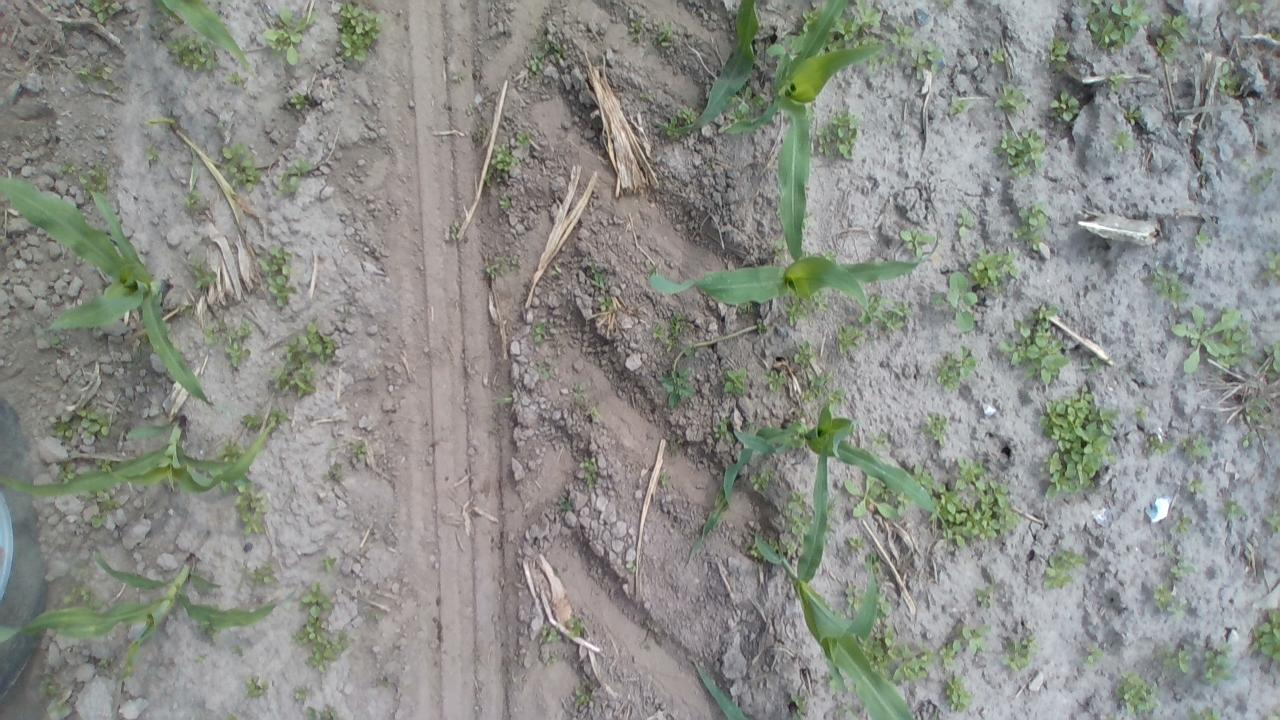Maize: (0, 176, 213, 408), (755, 439, 920, 720), (720, 1, 884, 264), (686, 404, 938, 568), (1, 553, 282, 676), (0, 415, 277, 500), (644, 255, 922, 319), (662, 0, 759, 133), (153, 1, 250, 68), (148, 115, 220, 194), (689, 659, 747, 720)
Weeds: (656, 321, 766, 406), (1042, 384, 1121, 498), (997, 304, 1068, 386), (934, 481, 1016, 542), (1172, 309, 1236, 374), (277, 322, 333, 396), (1081, 1, 1147, 50), (996, 124, 1048, 176), (266, 10, 314, 66), (934, 271, 978, 332), (934, 621, 990, 668), (339, 3, 382, 62), (842, 473, 896, 518), (260, 244, 296, 310), (857, 292, 908, 338), (296, 582, 330, 646), (814, 114, 858, 162), (933, 344, 976, 390), (1012, 200, 1051, 250), (1042, 548, 1086, 590), (967, 251, 1015, 289), (223, 142, 261, 190), (168, 36, 219, 70), (1249, 610, 1280, 664), (1152, 15, 1188, 58), (1112, 674, 1152, 712), (224, 318, 254, 368), (800, 370, 844, 404), (1220, 326, 1256, 366), (1000, 634, 1036, 672), (785, 295, 825, 329), (238, 490, 267, 536), (899, 648, 934, 684), (1152, 267, 1188, 302), (866, 633, 906, 664), (1198, 648, 1232, 684), (303, 640, 342, 670), (662, 103, 698, 135), (64, 164, 108, 190), (1047, 88, 1079, 122), (954, 456, 986, 490), (942, 679, 974, 713), (76, 407, 112, 437), (1044, 37, 1072, 72), (779, 502, 809, 534), (764, 38, 800, 64), (902, 227, 932, 258), (282, 164, 316, 191), (851, 1, 880, 32), (240, 564, 278, 587), (1158, 647, 1188, 676), (737, 87, 767, 115), (1215, 62, 1239, 97), (59, 588, 103, 607), (924, 413, 948, 446), (994, 88, 1026, 112), (1184, 431, 1210, 460), (1142, 433, 1176, 455), (914, 42, 940, 70), (1261, 342, 1280, 380), (1256, 252, 1280, 282), (1225, 0, 1265, 17), (836, 325, 862, 351), (38, 676, 62, 703), (1246, 167, 1272, 191), (216, 439, 242, 463), (842, 580, 864, 608), (724, 369, 746, 396), (541, 31, 563, 57), (670, 314, 696, 336), (1153, 582, 1172, 612), (655, 326, 676, 352), (321, 461, 344, 484), (957, 207, 975, 236), (53, 413, 73, 439), (769, 538, 799, 555), (195, 263, 216, 287), (798, 6, 818, 31), (580, 461, 598, 488), (833, 20, 855, 42), (892, 23, 914, 45), (976, 584, 995, 609), (1167, 517, 1193, 535), (749, 468, 770, 490), (94, 654, 114, 677), (788, 692, 808, 715), (794, 341, 812, 366), (1114, 130, 1134, 152), (916, 468, 936, 490), (712, 421, 734, 441), (200, 324, 220, 346), (870, 52, 897, 68), (1246, 400, 1266, 421), (309, 705, 337, 720), (1168, 562, 1194, 578), (245, 678, 268, 696), (240, 413, 264, 430), (490, 150, 510, 170), (656, 24, 674, 46), (90, 0, 108, 22), (1124, 103, 1141, 126), (766, 371, 786, 390), (877, 598, 895, 619), (572, 689, 592, 707), (786, 487, 806, 505), (58, 462, 76, 482), (846, 536, 864, 555), (290, 683, 308, 702), (528, 52, 545, 72), (1266, 515, 1280, 537), (1192, 231, 1210, 248), (1088, 644, 1104, 662), (1194, 709, 1219, 720), (1224, 501, 1240, 518), (556, 496, 572, 513), (590, 270, 605, 288), (290, 94, 305, 112), (145, 144, 160, 162), (98, 499, 120, 511), (352, 442, 368, 458), (321, 556, 337, 572), (539, 626, 557, 640), (1107, 70, 1122, 86), (1188, 479, 1204, 494), (89, 513, 105, 528), (658, 470, 672, 487), (532, 324, 546, 341), (599, 294, 612, 312), (990, 49, 1006, 63), (95, 458, 112, 471), (52, 333, 66, 348), (268, 408, 282, 423), (750, 546, 763, 562), (228, 644, 244, 657), (190, 654, 210, 664), (450, 222, 461, 240), (568, 622, 582, 636), (953, 99, 966, 114), (852, 38, 876, 46), (230, 70, 242, 86), (876, 431, 889, 445), (630, 18, 642, 33), (187, 193, 200, 206), (1135, 406, 1148, 418), (486, 266, 497, 280), (1268, 28, 1280, 40), (498, 196, 510, 208), (516, 132, 528, 144), (1241, 436, 1251, 450), (939, 0, 953, 9), (92, 489, 106, 498), (552, 266, 561, 278), (1090, 358, 1100, 368), (227, 712, 239, 720)
